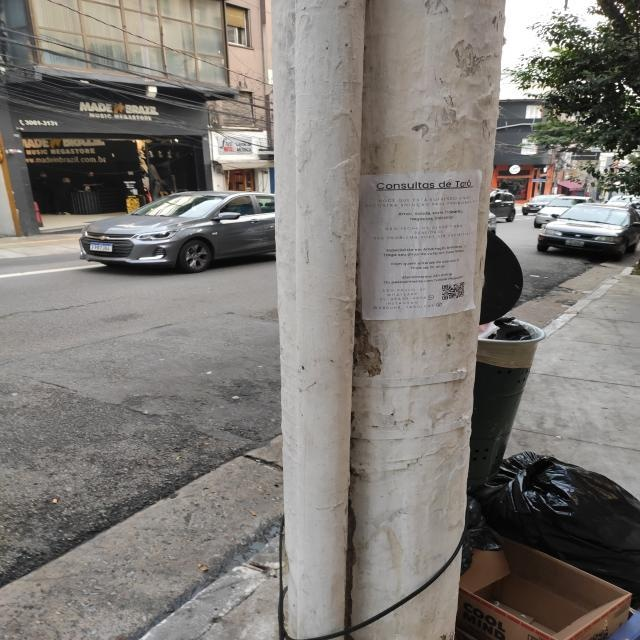qr-code: (442, 282, 464, 300)
